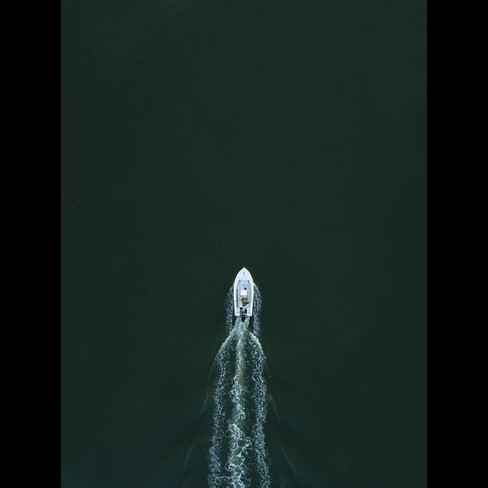boat: (228, 264, 259, 323)
